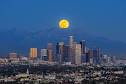moon: (58, 19, 70, 30)
